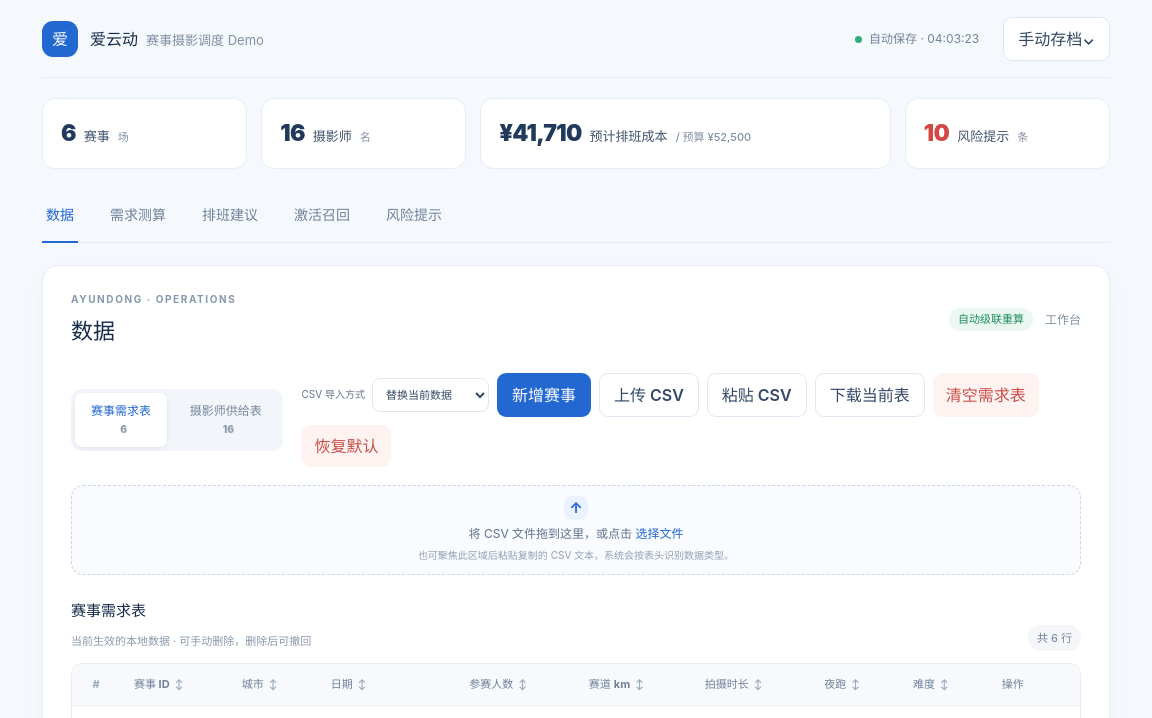
Test: M5 staffing analysis page › edits a displayed parameter inline, confirms with Enter and keeps the slider synchronized
Click the tab "需求测算": [138, 215] box top-left (106, 188), bottom-right (170, 242)
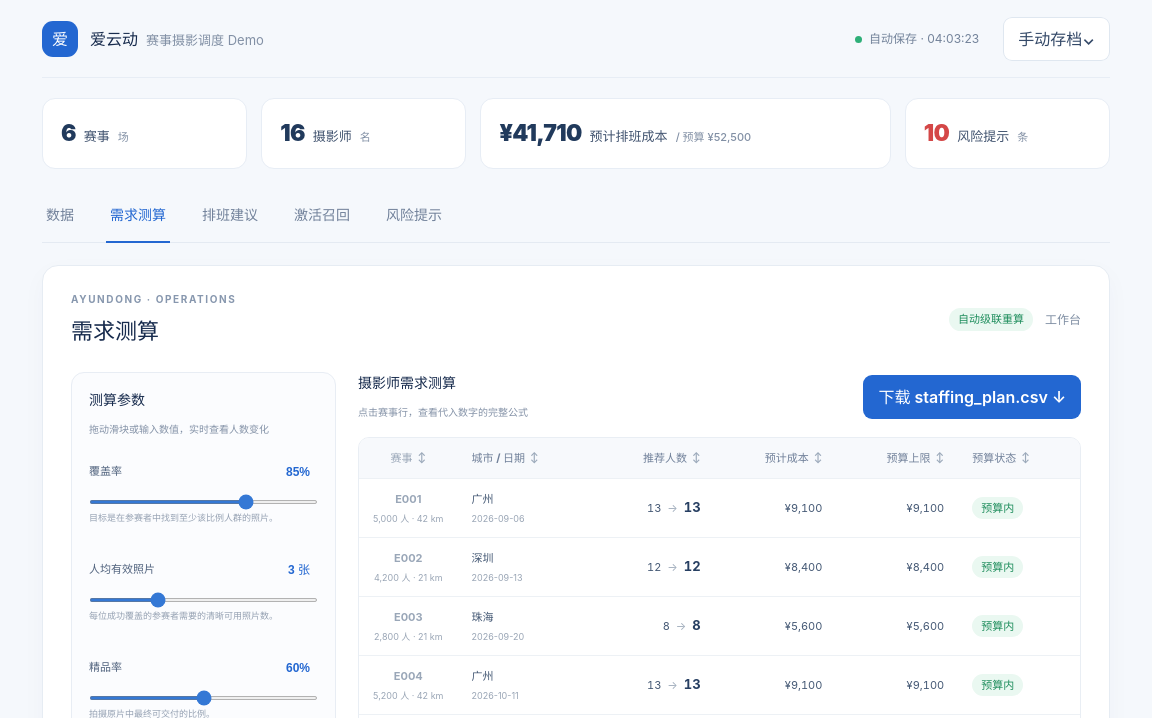
Click the button named "编辑精品率": [298, 668] box top-left (278, 654), bottom-right (318, 682)
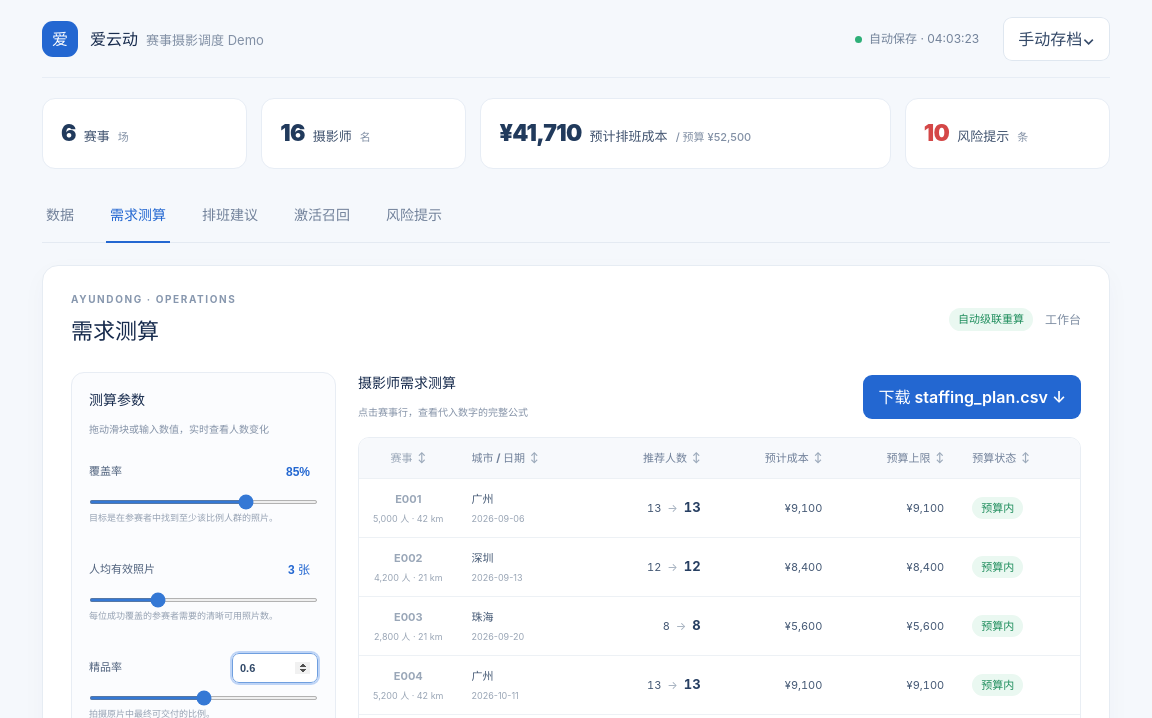
Replace the text in the number field named "精品率数值" with "0.5": [275, 668] box top-left (232, 652), bottom-right (318, 682)
Press Enter in the number field named "精品率数值", box top-left (232, 652), bottom-right (318, 682)
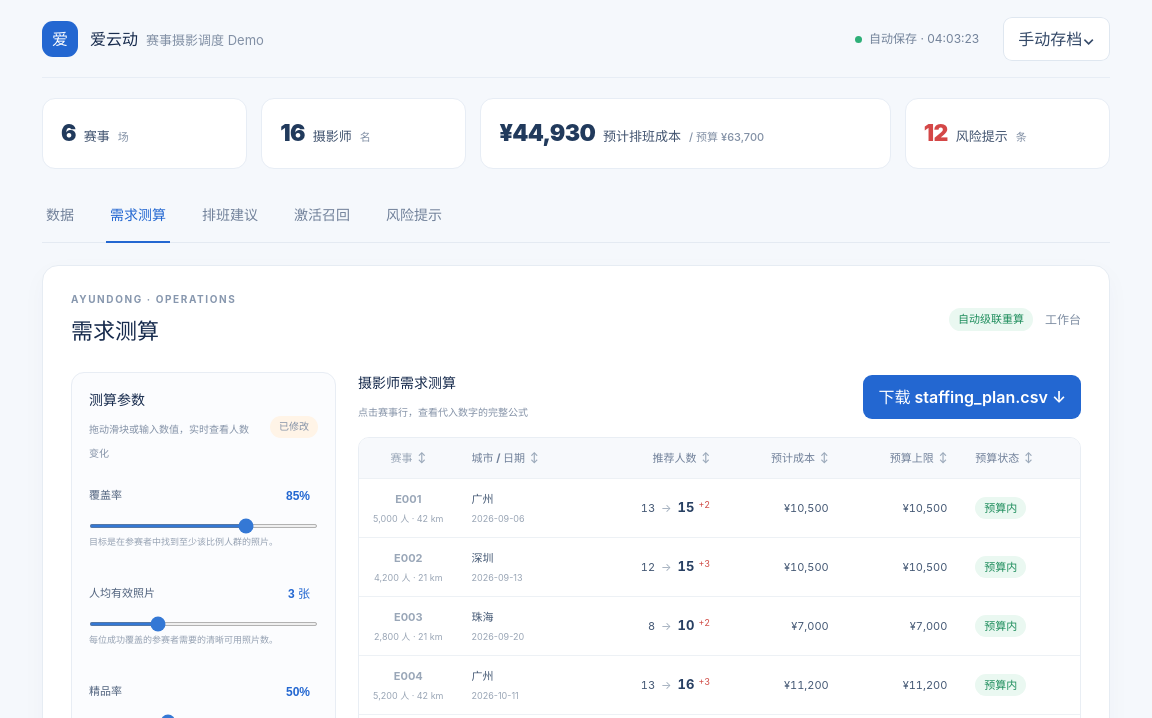
Expected: the number field labelled "精品率数值" is gone
Expected: the button named "编辑精品率" reads "50%"
Click the button named "编辑精品率": [298, 692] box top-left (278, 678), bottom-right (318, 706)
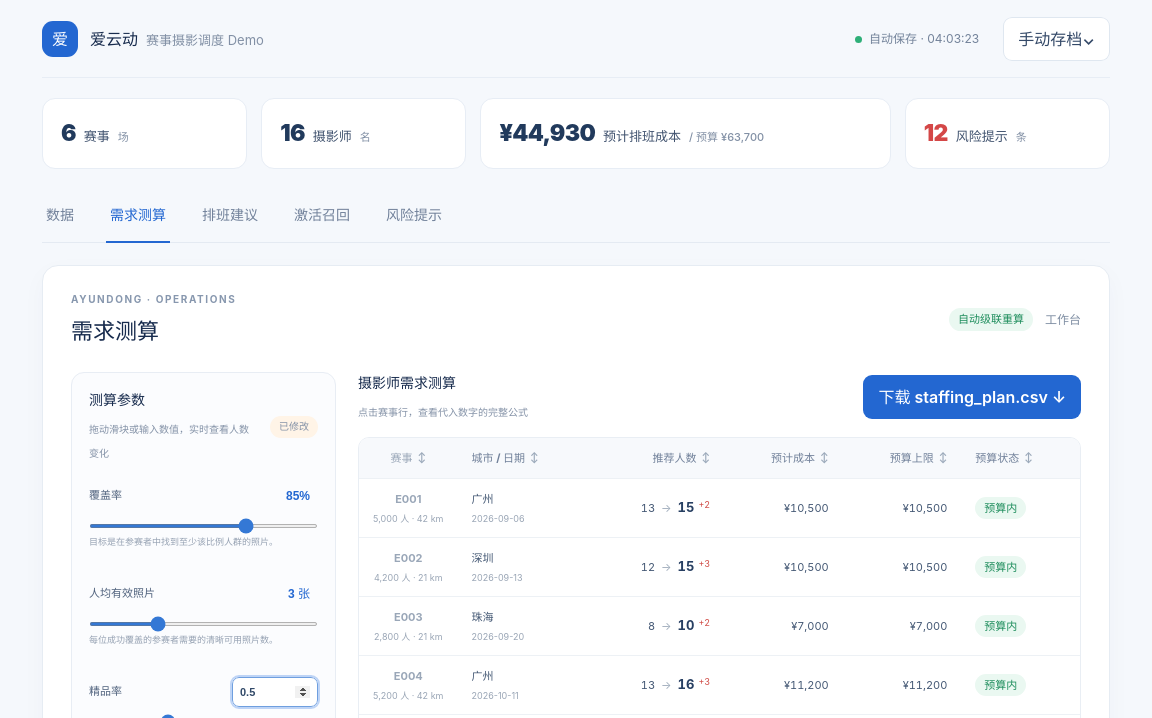
Replace the text in the number field named "精品率数值" with "1.5": [275, 692] box top-left (232, 676), bottom-right (318, 706)
Press Enter in the number field named "精品率数值", box top-left (232, 676), bottom-right (318, 706)
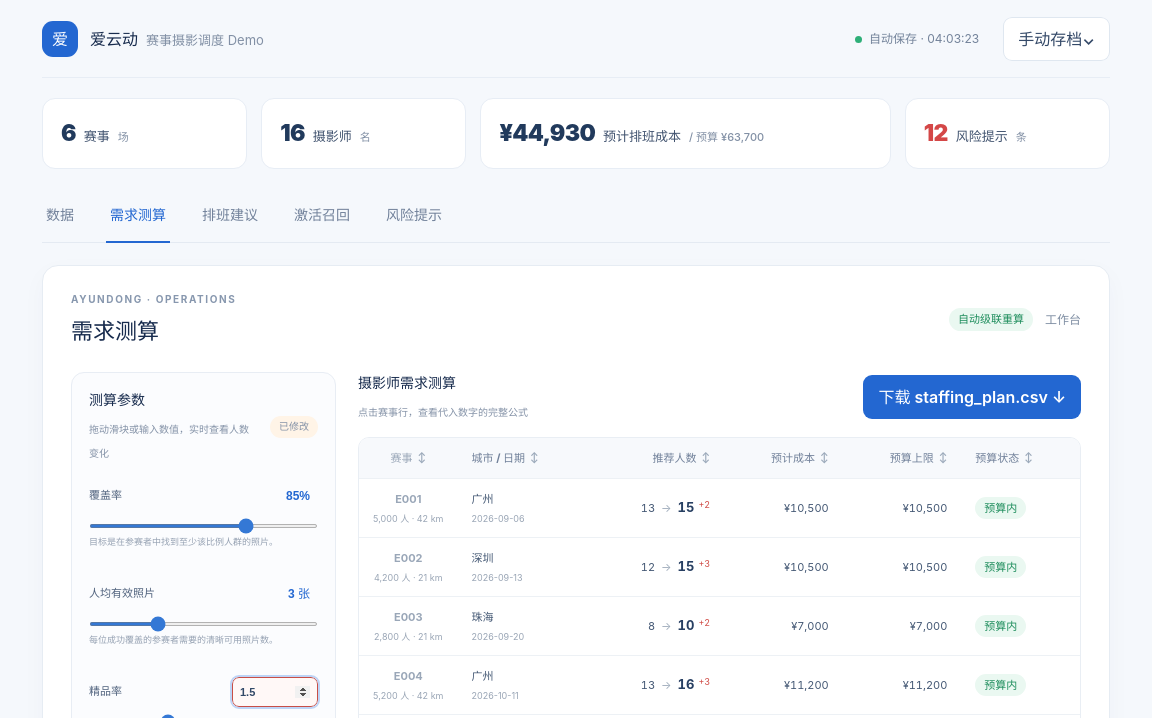
Press Escape in the number field named "精品率数值", box top-left (232, 676), bottom-right (318, 706)
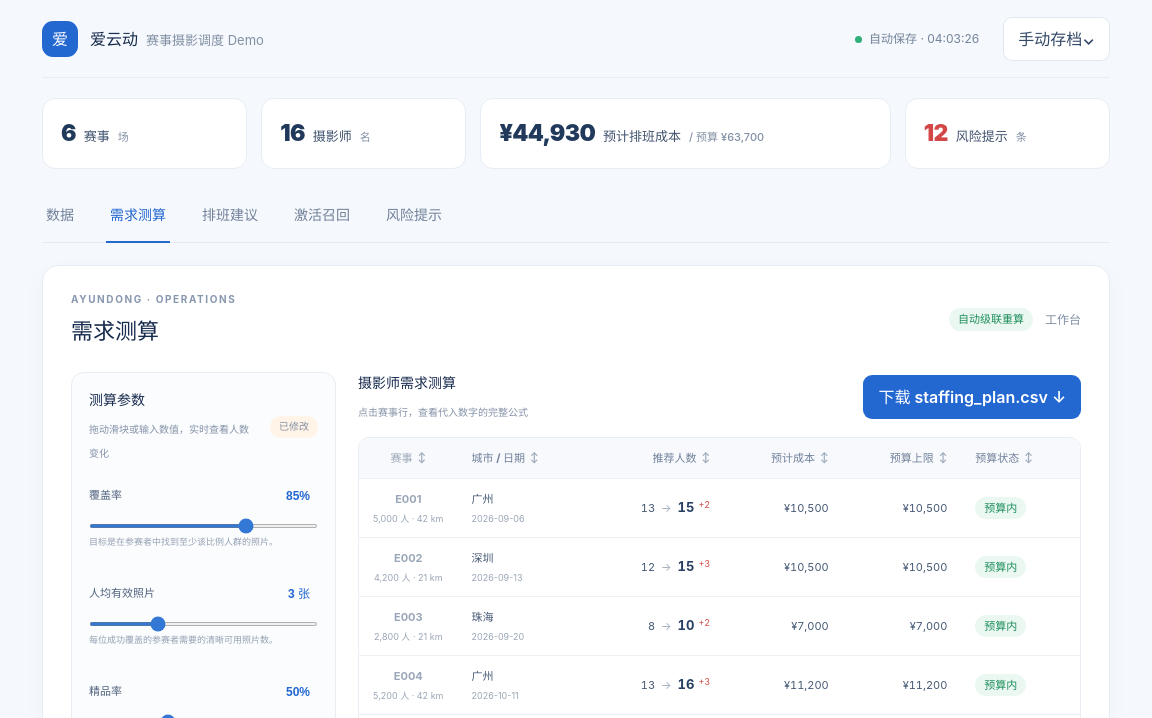
Expected: the number field labelled "精品率数值" is gone
